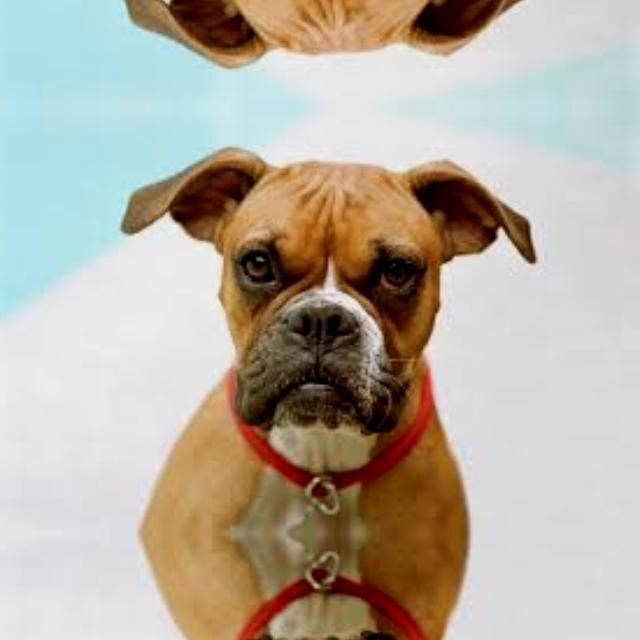dog: (89, 134, 533, 534), (89, 532, 533, 640), (89, 0, 533, 79)
